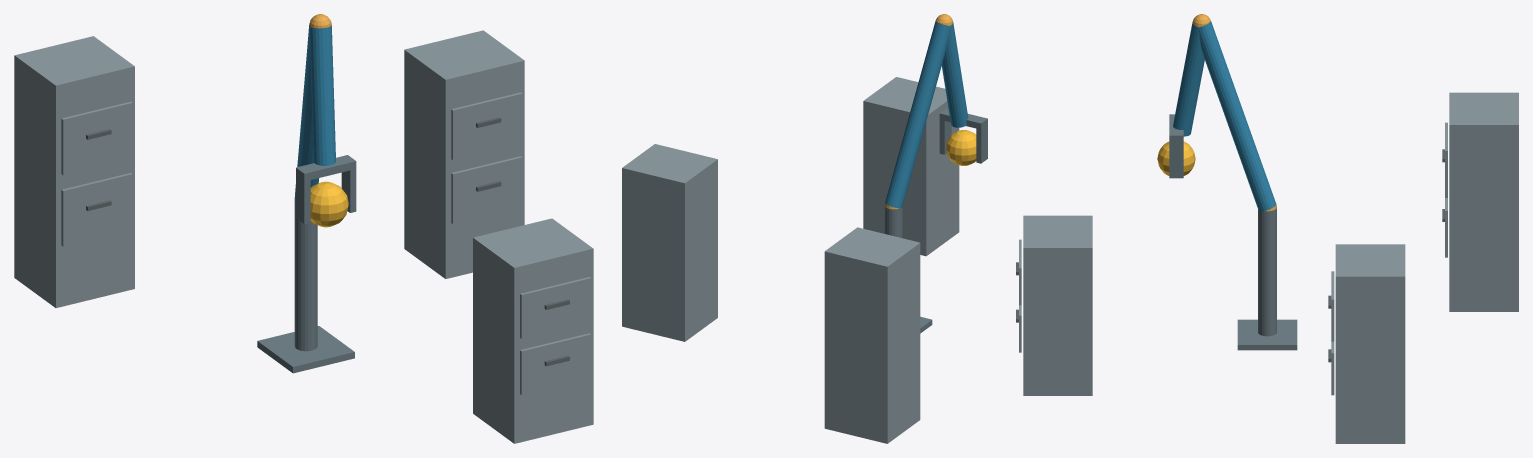
3 renders of one model, left to right at view 1: azimuth 30°, elevation 25°; view 2: azimuth 150°, elevation 25°; view 3: azimuth 270°, elevation 25°, orthographic. The views are drawn at different scales.
Parts seen in each view (by area): view 1: cabinet_3 body, cabinet_2 body, cabinet_1 body, cabinet_3 drawer front, cabinet_3 drawer front.001, cabinet_2 drawer front, cabinet_2 drawer front.001, cabinet_1 drawer front, cabinet_1 drawer front.001, moving link 2, fixed post, pedestal (+4 smaller); view 2: cabinet_3 body, cabinet_2 body, cabinet_1 body, moving link 1, moving link 2, ball ball_1, fixed post, gripper finger -1, gripper bridge; view 3: cabinet_3 body, cabinet_2 body, cabinet_1 body, moving link 1, fixed post, moving link 2, pedestal, ball ball_1, gripper finger 1.
Part boxes in pixels (x1,y1,x2,y2): cabinet_3 body: (14,36,134,307); cabinet_2 body: (404,30,524,278); cabinet_1 body: (473,218,593,443); cabinet_3 drawer front: (61,173,132,246); cabinet_3 drawer front.001: (61,101,132,175); cabinet_2 drawer front: (451,156,522,223); cabinet_2 drawer front.001: (451,92,522,160); cabinet_1 drawer front: (520,333,591,395); cabinet_1 drawer front.001: (520,277,591,338); moving link 2: (309,25,335,165); fixed post: (294,197,317,351); pedestal: (257,326,354,373); cabinet_3 body: (824,227,920,443); cabinet_2 body: (622,144,717,341); cabinet_1 body: (863,77,959,256); moving link 1: (885,21,949,208); moving link 2: (941,22,968,127); ball ball_1: (946,130,976,165); fixed post: (884,207,902,238); gripper finger -1: (976,125,987,163); gripper bridge: (939,108,987,129); cabinet_3 body: (1449,92,1518,311); cabinet_2 body: (1335,244,1405,443); cabinet_1 body: (1023,215,1092,395); moving link 1: (1198,21,1276,210); fixed post: (1258,208,1276,336); moving link 2: (1173,22,1204,136); pedestal: (1237,319,1297,350); ball ball_1: (1157,141,1195,175); gripper finger 1: (1169,142,1183,178).
Bounding box in the file's own units: 1.62 × 1.44 × 2.1.
